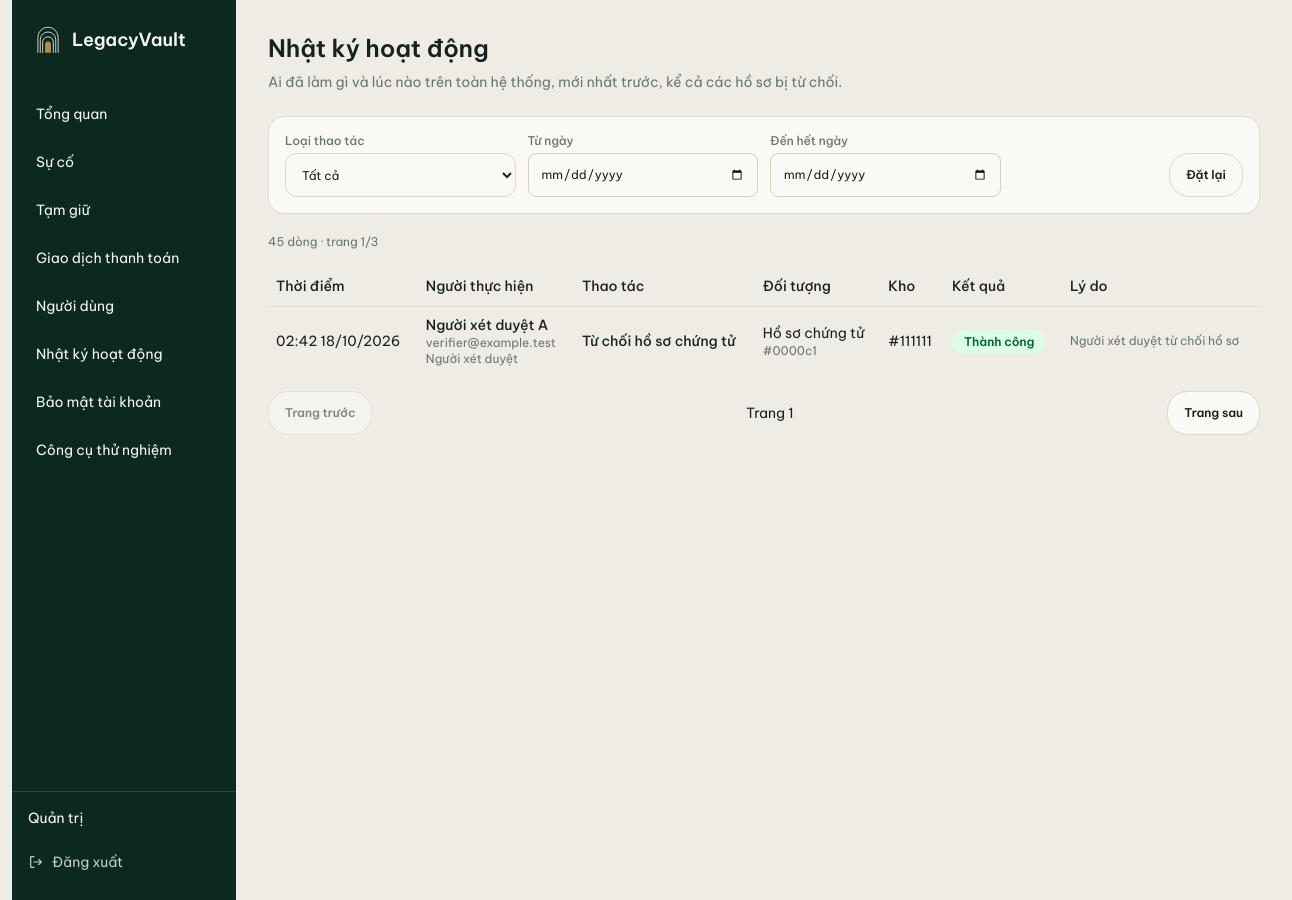
nhật ký hoạt động phân trang theo URL và lọc theo loại thao tác về trang 1
Expected: the table is shown, [268,266,1260,374]
Step 1. Click the button "Trang sau" → (1214, 412), box [1167,390,1260,434]
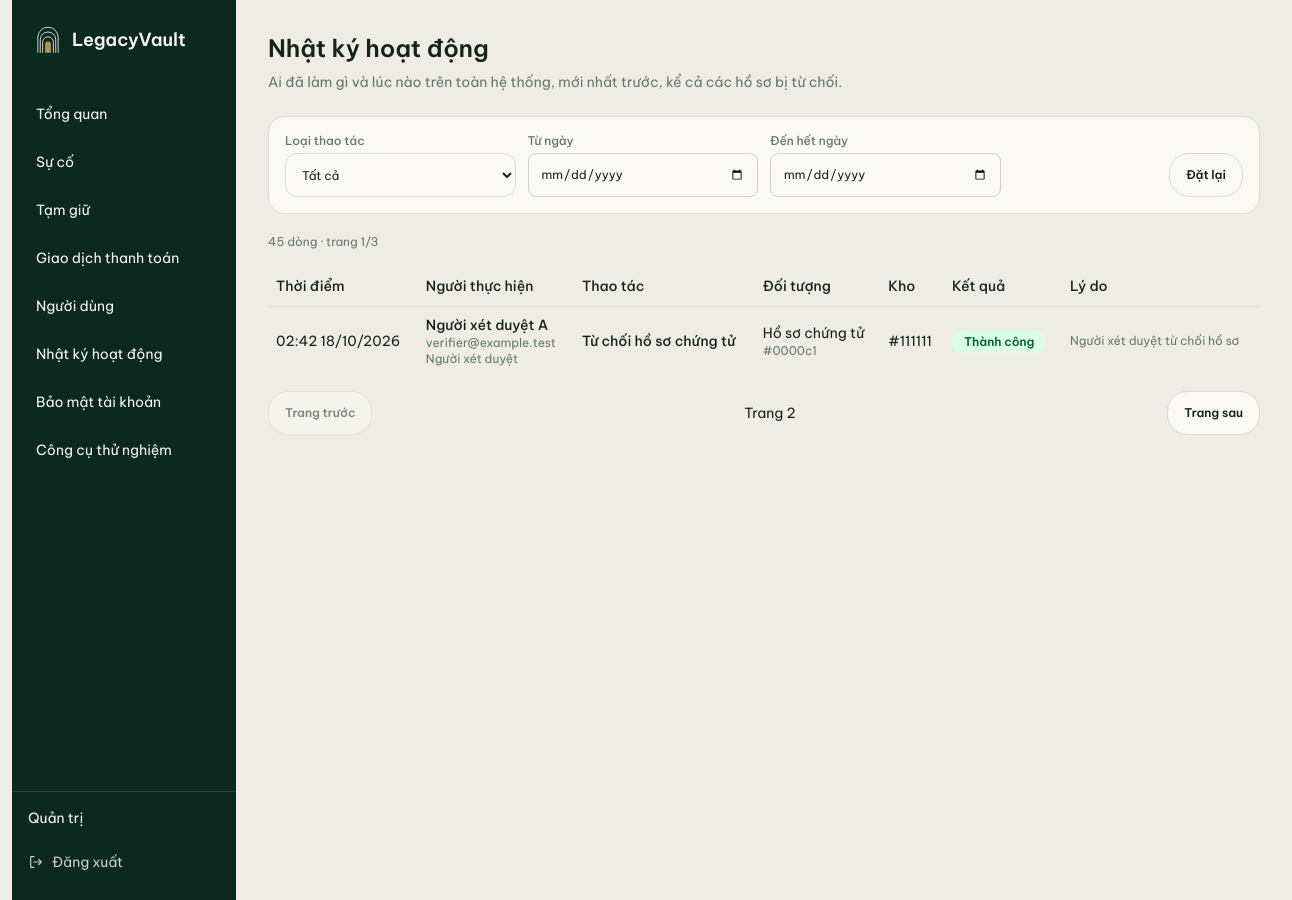
Step 2. Select "Từ chối hồ sơ chứng tử" in the dropdown labelled "Loại thao tác" → (400, 175), box [285,153,516,197]
(page scrolled)
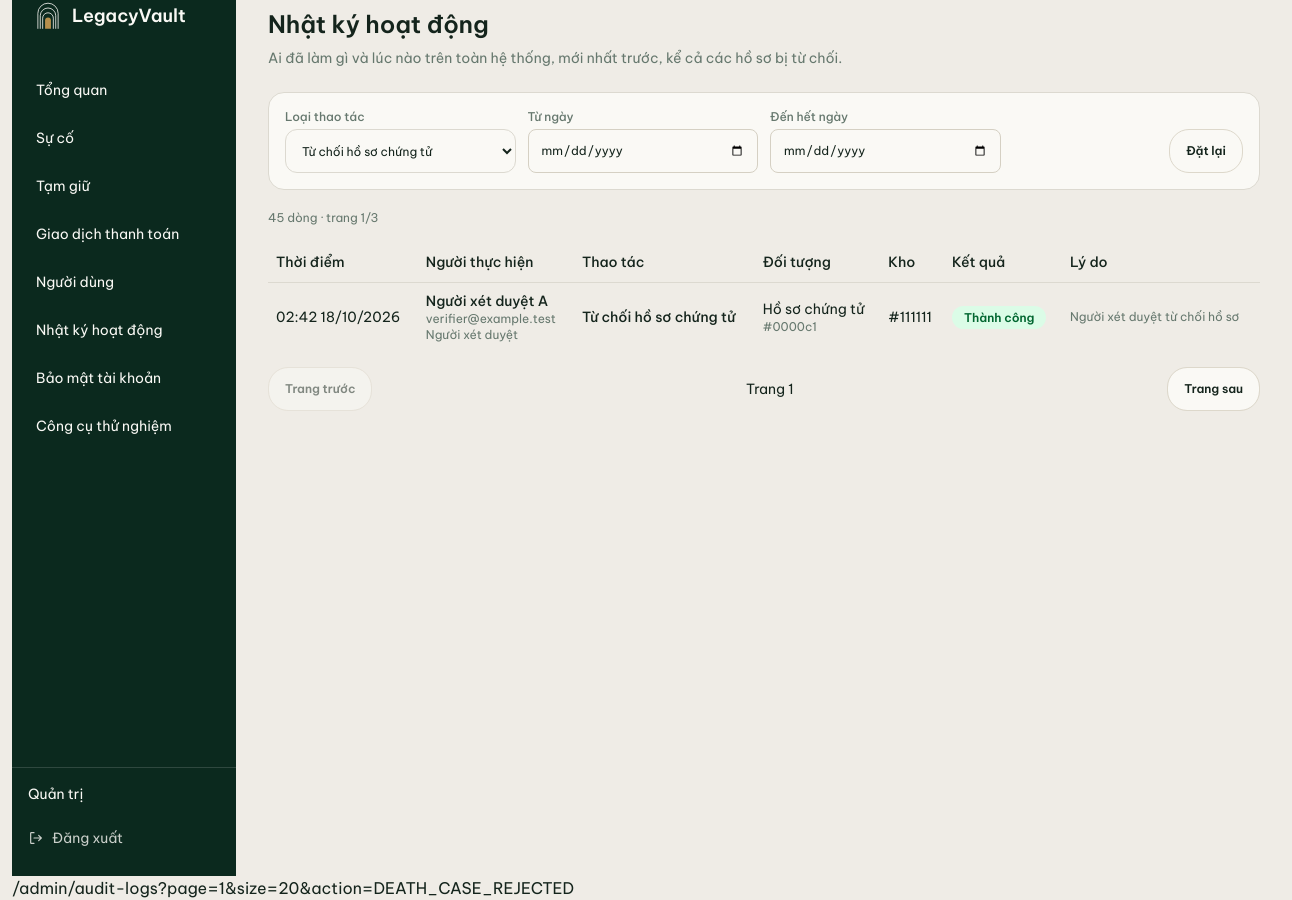
Expected: the text with test id "location" does not show "page=2", [12,878,574,898]
Now the text with test id "location" shows "action=DEATH_CASE_REJECTED", box [12,878,574,898]
